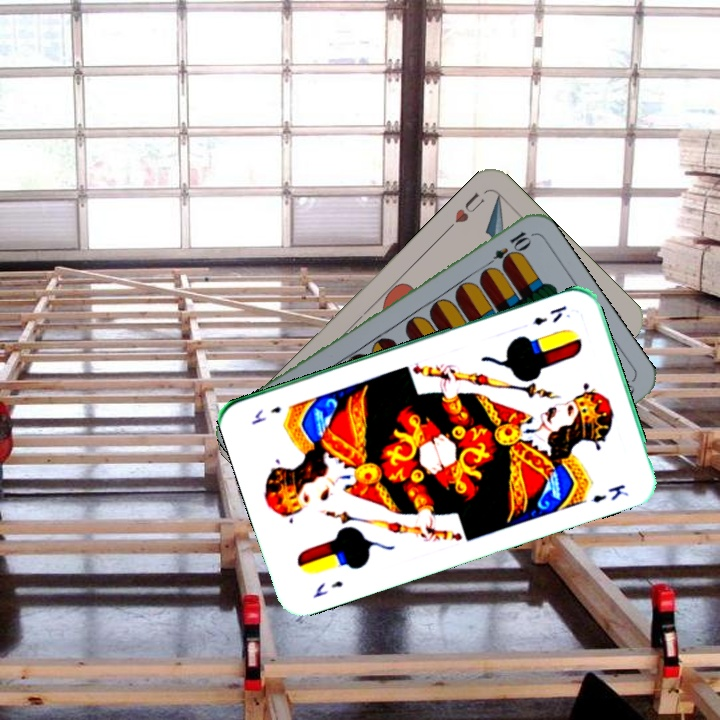E10: (480, 227, 533, 272)
EK: (528, 301, 569, 328), (309, 576, 346, 600)
HU: (442, 187, 488, 234)
